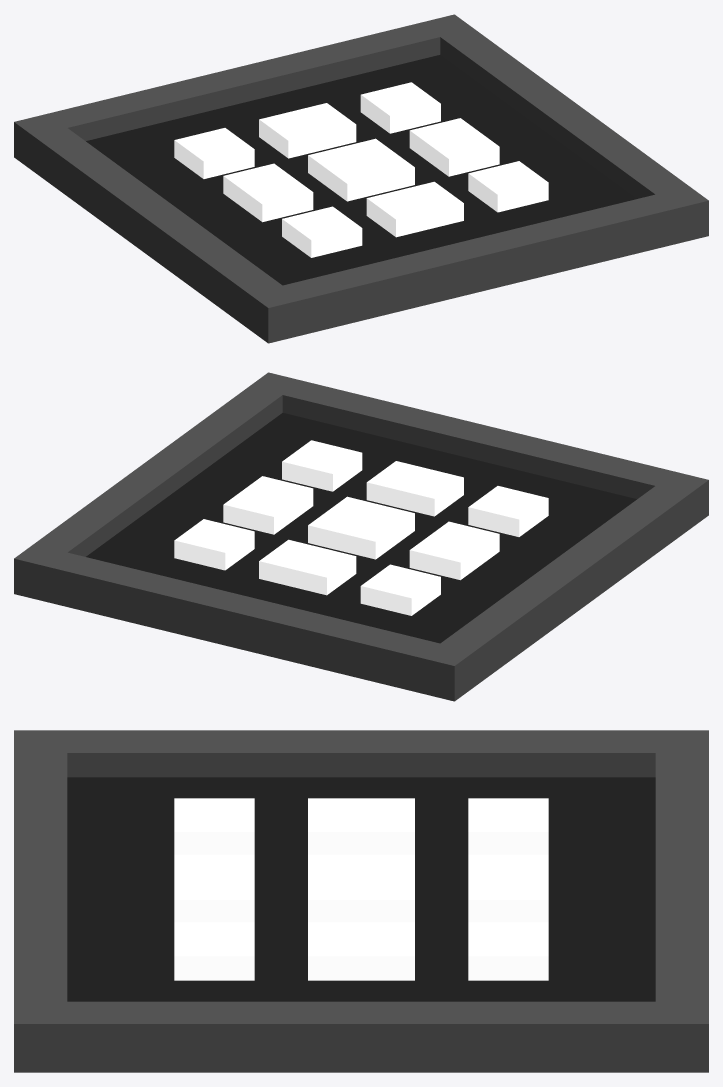
The model's file is trap_DOTS_GREY.glb.
3 renders of one model, top to bottom at view 1: azimuth 30°, elevation 25°; view 2: azimuth 150°, elevation 25°; view 3: azimuth 270°, elevation 25°, orthographic. The views are drawn at different scales.
Parts seen in each view (by area): view 1: item_TRAP_DOTS_GREY; view 2: item_TRAP_DOTS_GREY; view 3: item_TRAP_DOTS_GREY.
Boxes of the visible parts, x1,y1,x2,y2 form: item_TRAP_DOTS_GREY: (14, 14, 708, 343); item_TRAP_DOTS_GREY: (14, 372, 708, 701); item_TRAP_DOTS_GREY: (14, 730, 708, 1072).
Size of the model in its own units: 0.5909 by 0.0455 by 0.5909.
Materials: 1 (1 with a texture image).
